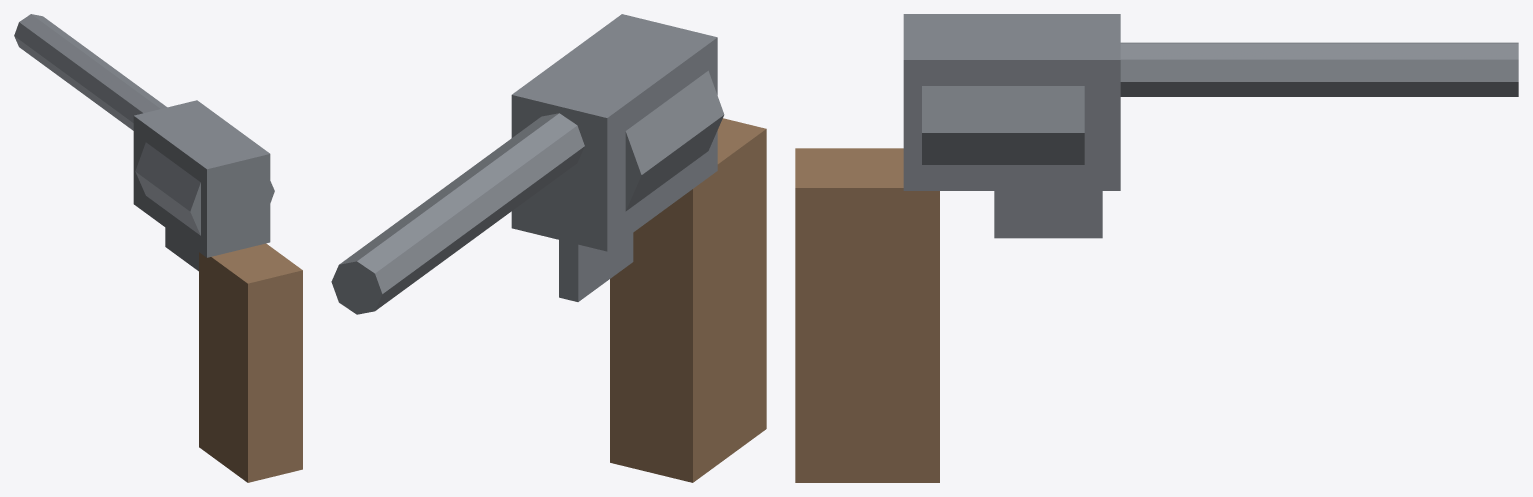
File: revolver.glb
The picture shows the model from 3 angles, left to right: view 1: azimuth 30°, elevation 25°; view 2: azimuth 150°, elevation 25°; view 3: azimuth 270°, elevation 25°; orthographic projection. The views are drawn at different scales.
Parts seen in each view (by area): view 1: revolver; view 2: revolver; view 3: revolver.
Boxes of the visible parts, <box> form: revolver: <box>14,14,302,482</box>; revolver: <box>331,14,766,482</box>; revolver: <box>795,14,1518,482</box>.
Bounding box in the file's own units: 0.04 × 0.13 × 0.2.
